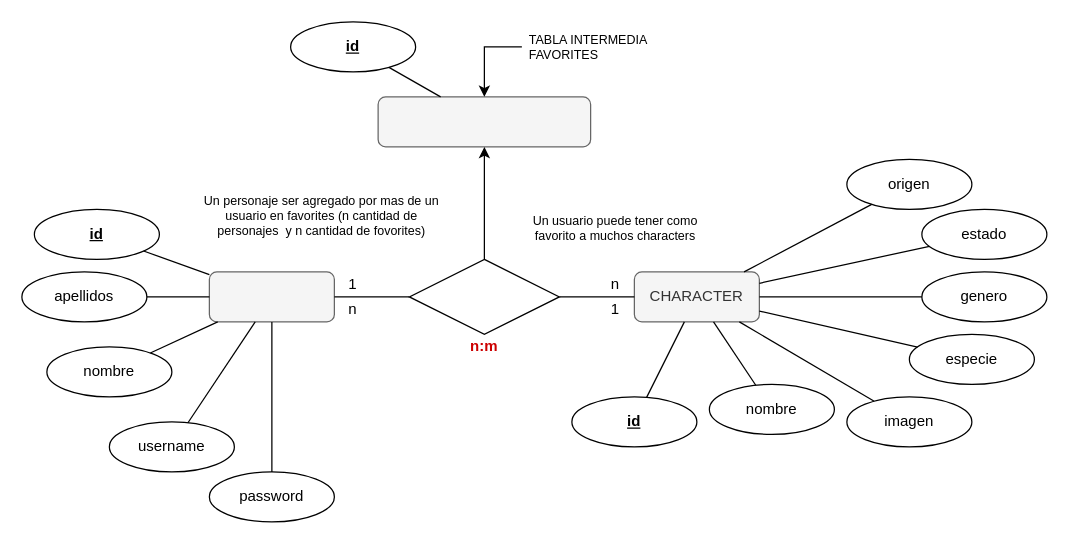
Some shapes in this 1069 by 544 pixel diagram are drawn without their labels. Here are the shapes that lost their labels. From the top down, the centre of each, then its label:
At point 484,121: "USER_has_CHARACTER".
At point 271,296: "USER".
At point 483,296: "agrega".
